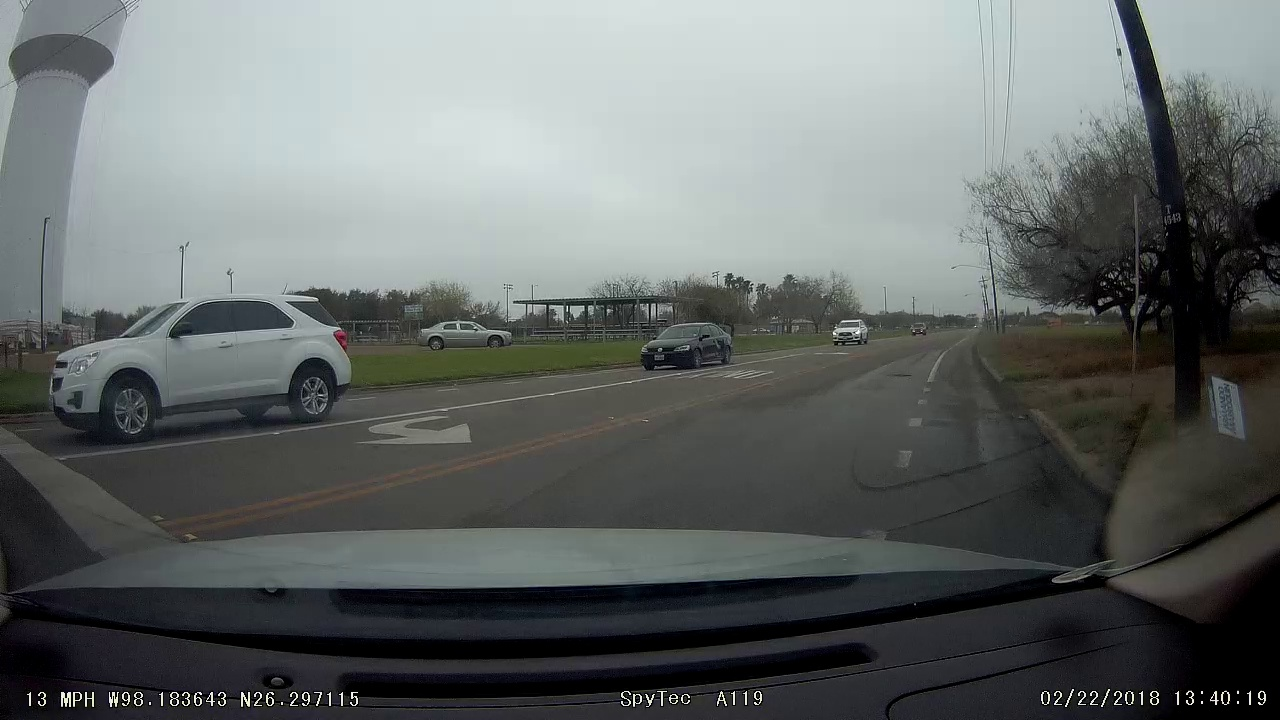manhole: (886, 369, 914, 382)
